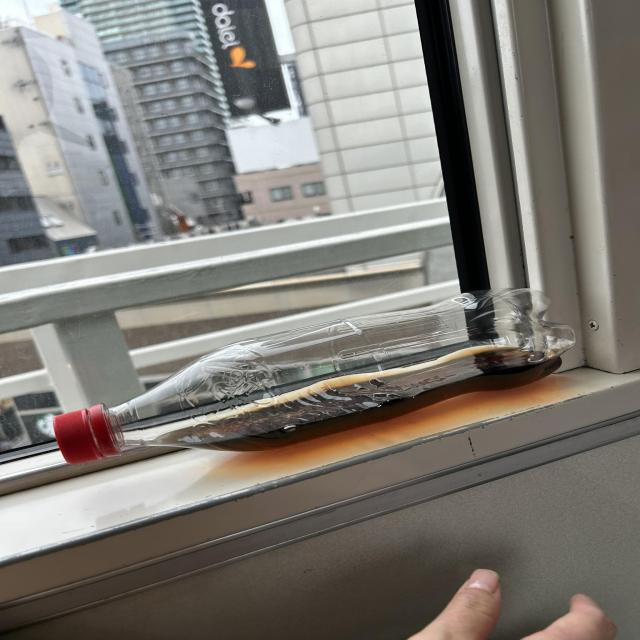low: (54, 289, 574, 463)
